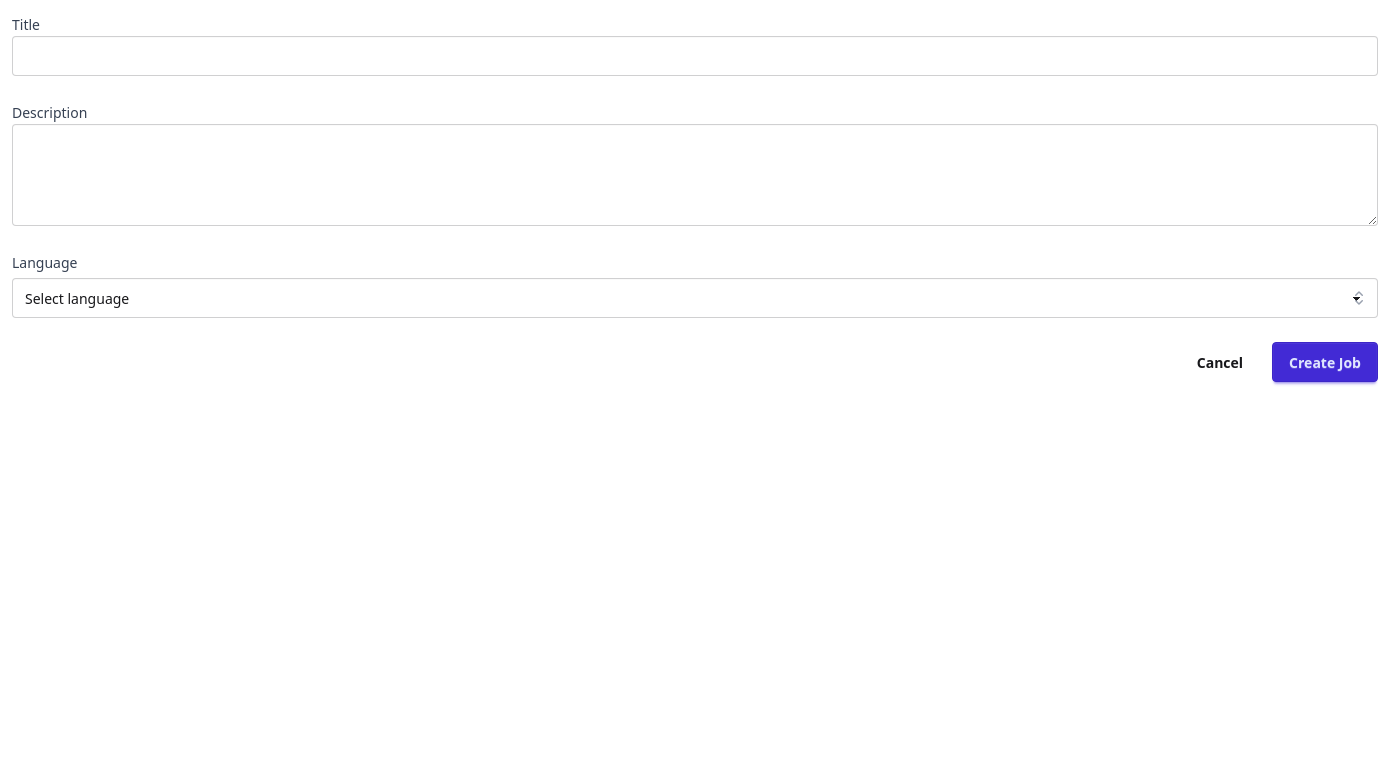
Test: JobForm › Form Validation › shows loading state during submission
The image size is (1390, 780).
In the field labelled "Title": (695, 56) [12,36,1378,76], type "Software Engineer"
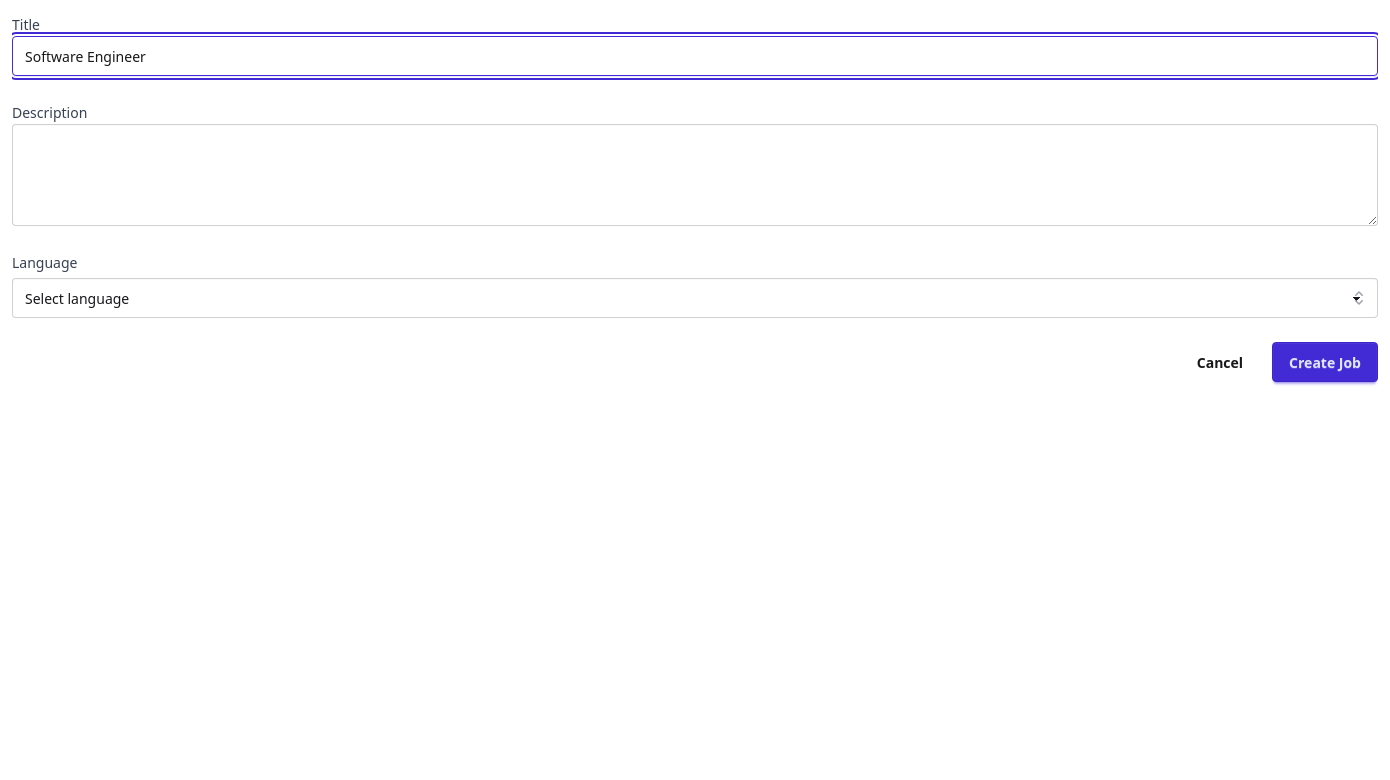
In the text box labelled "Description": (695, 175) [12,124,1378,226], type "Job description here"
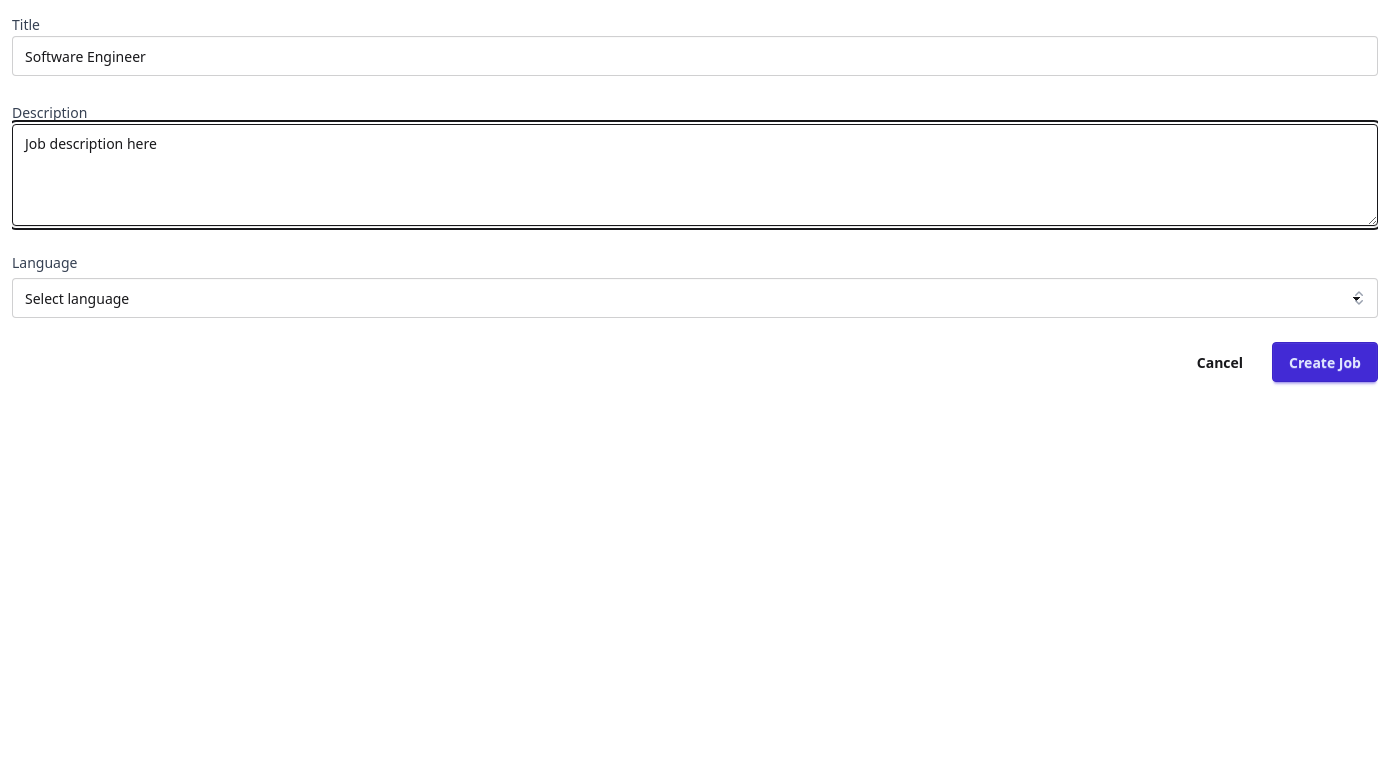
Click the button "Select language": (77, 298) [12,278,1378,318]
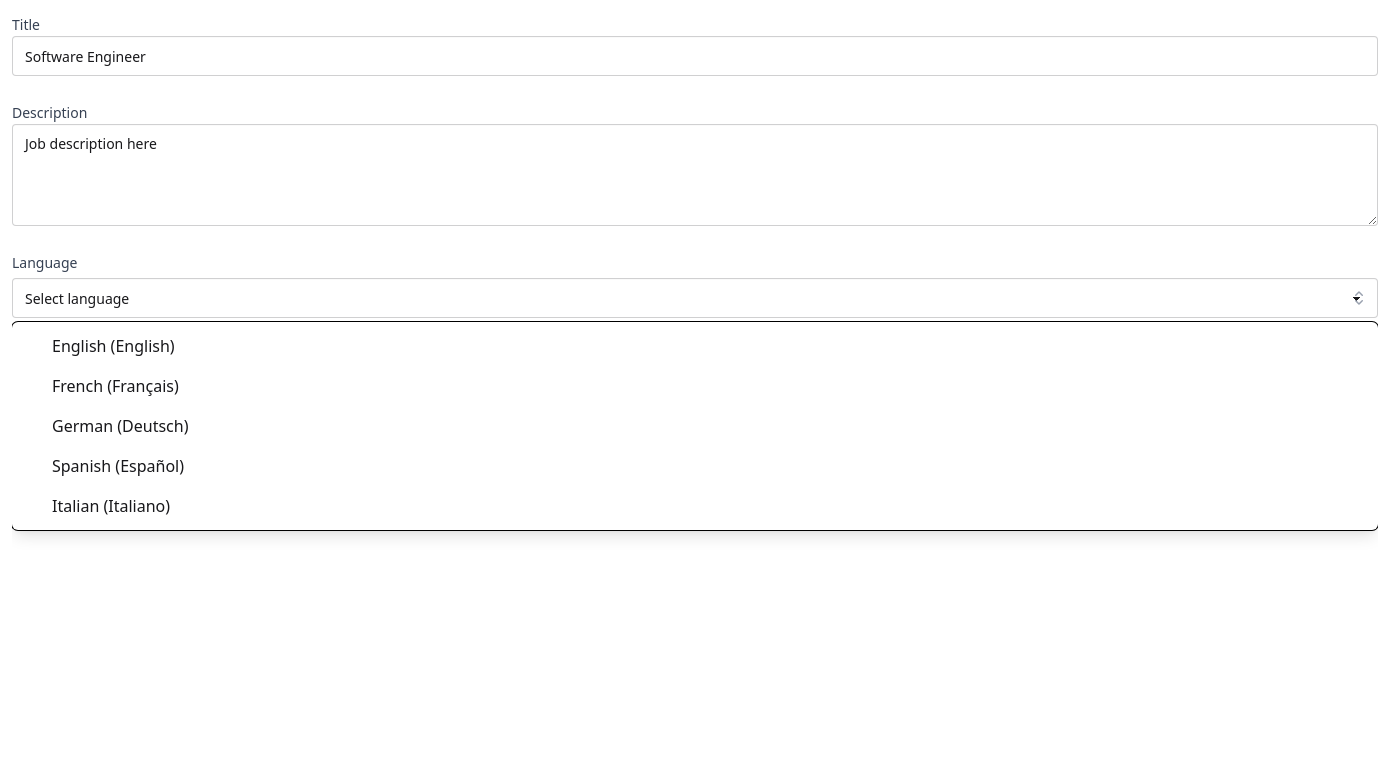
Click the option "English (English)": (113, 346) [52,335,175,357]
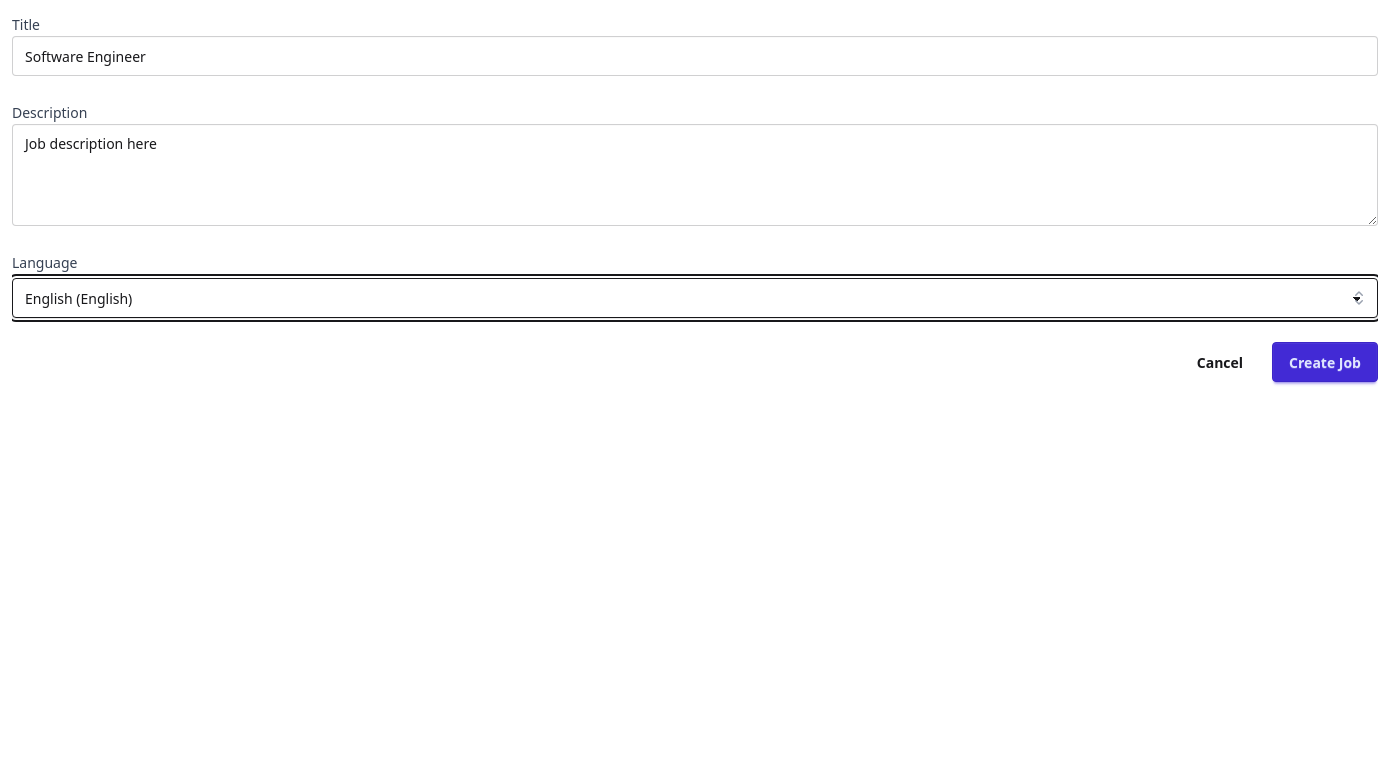
Click the button "Create Job": (1325, 362) [1272,342,1378,382]
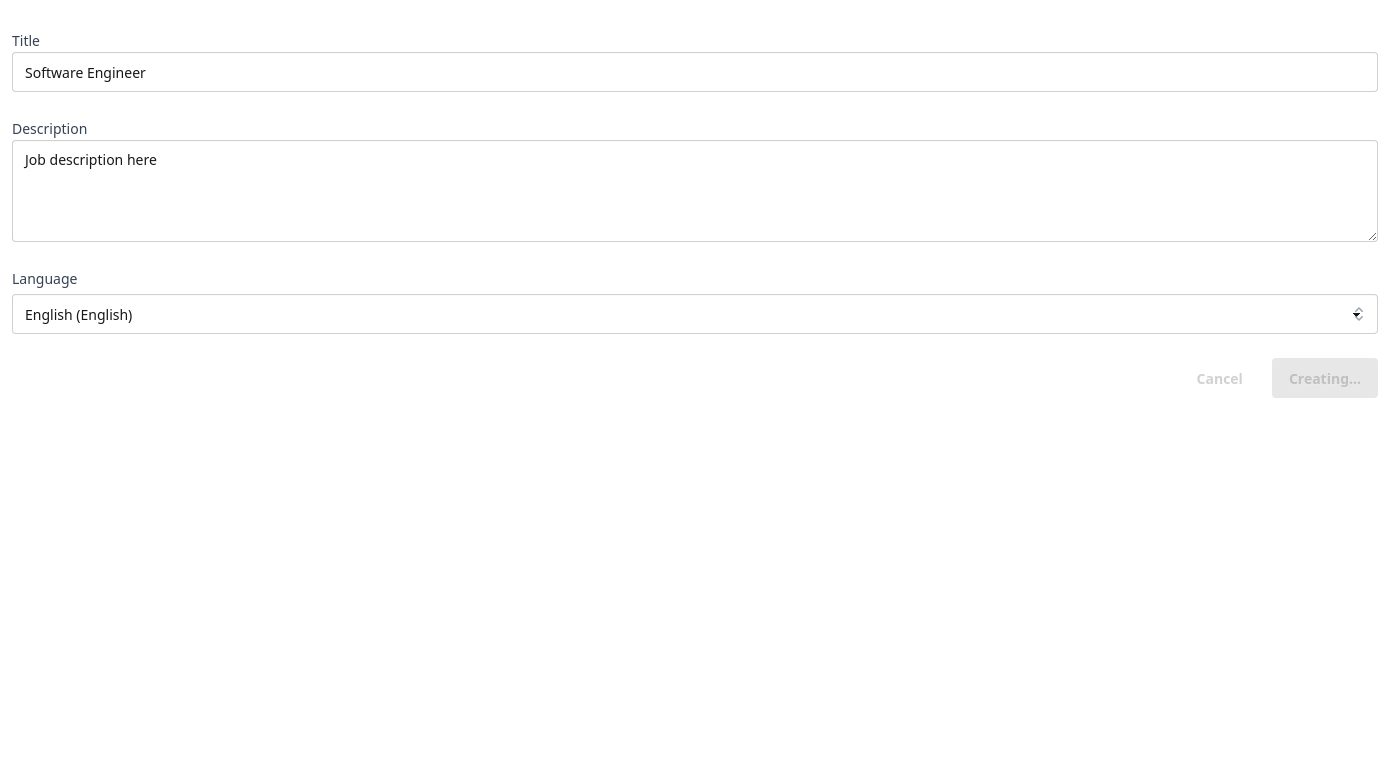
expect the button "Creating..." is disabled: met, box [1272,358,1378,398]
